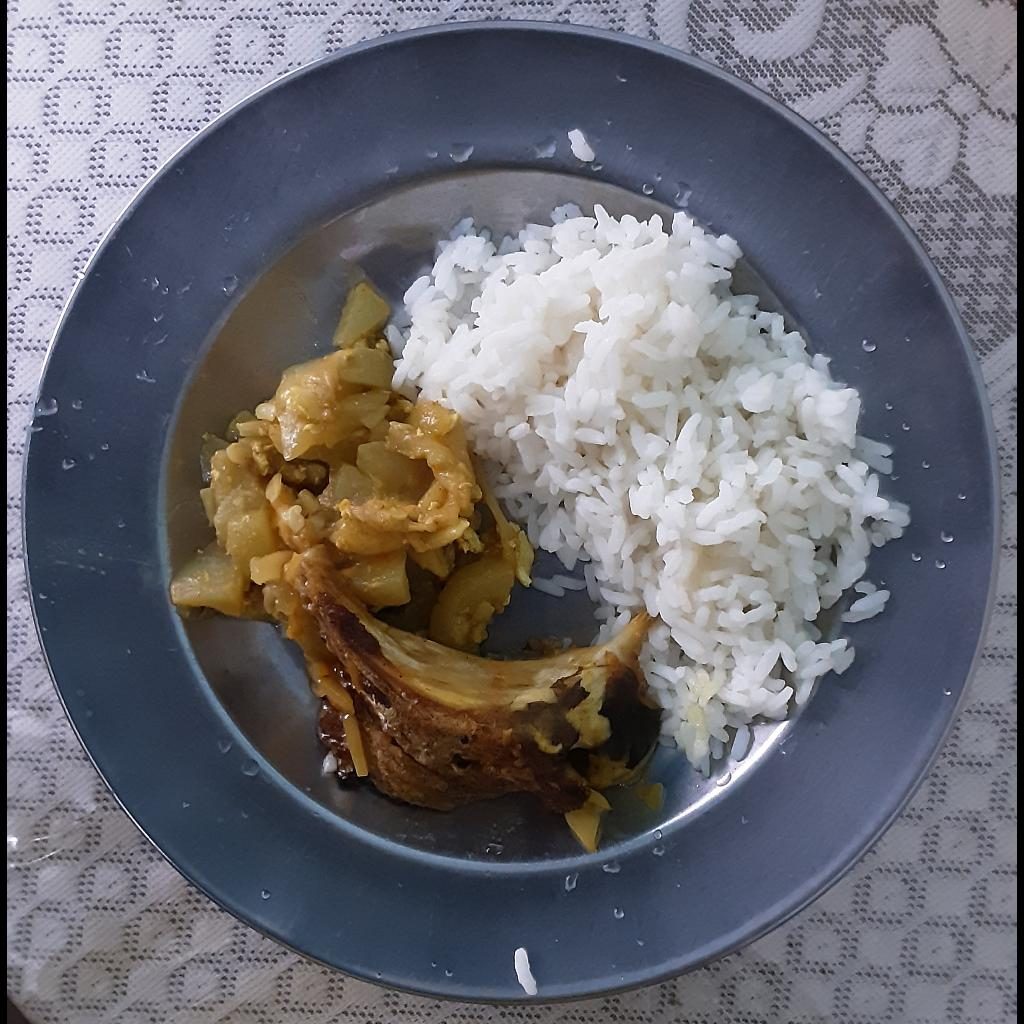fish: (269, 562, 668, 856)
lau: (167, 279, 539, 648)
rice: (382, 202, 912, 778)
